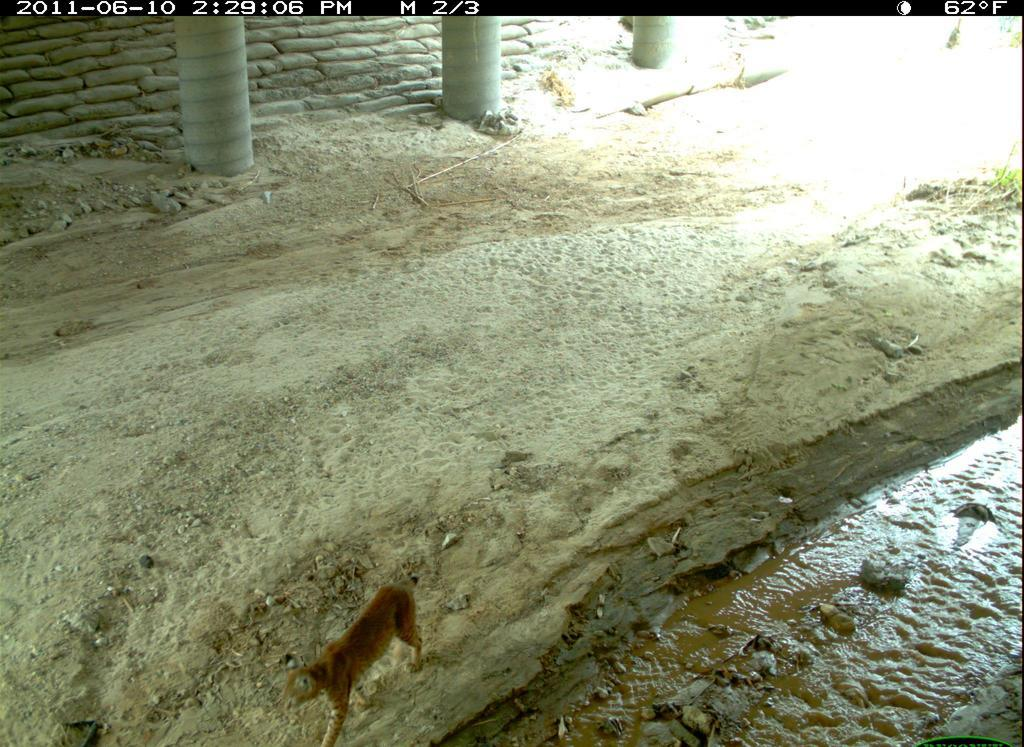bobcat: (279, 571, 431, 747)
